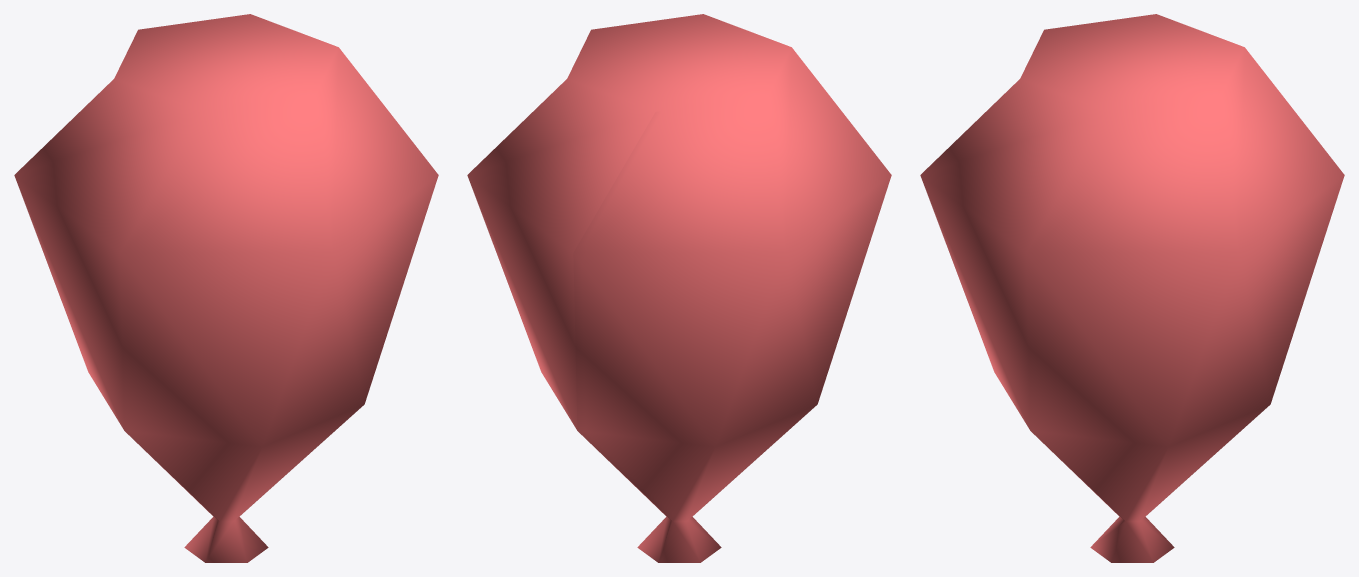
Rendered from balloon_pink.glb.
The picture shows the model from 3 angles, left to right: view 1: azimuth 30°, elevation 25°; view 2: azimuth 150°, elevation 25°; view 3: azimuth 270°, elevation 25°; orthographic projection.
Visible parts, largest first — view 1: Cylinder; view 2: Cylinder; view 3: Cylinder.
Part boxes in pixels (left/top/right/bottom): Cylinder: left=14, top=14, right=438, bottom=562; Cylinder: left=467, top=14, right=891, bottom=562; Cylinder: left=920, top=14, right=1344, bottom=562.
Size of the model in its own units: 2.51 by 3.66 by 2.9.
1 material, 1 textured.
